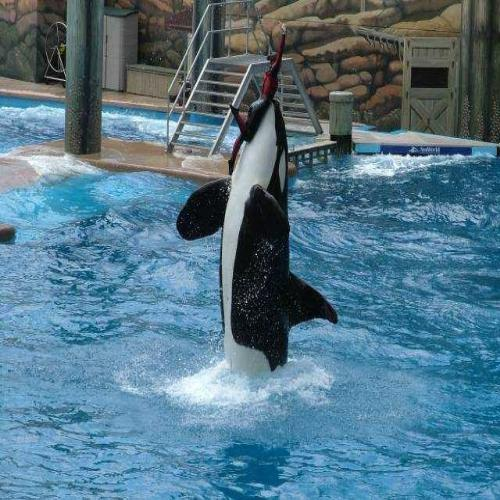killer_whale-endangered: (173, 97, 343, 414)
